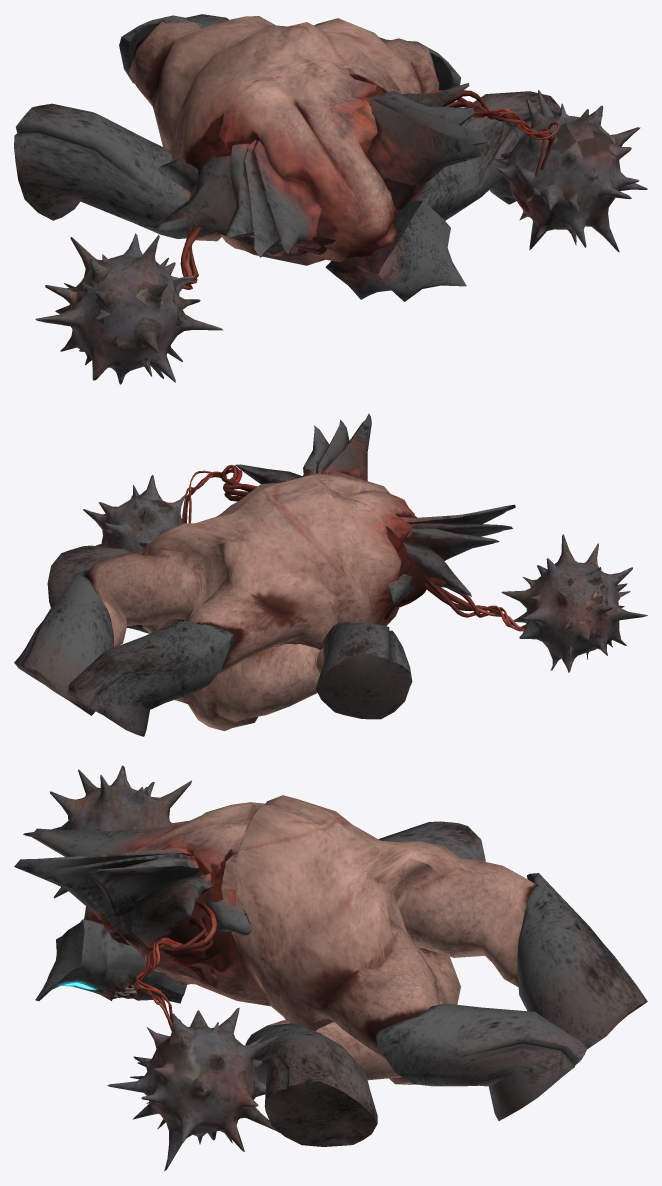
Rendered from FatGuyDead2_LOD1.fbx.
3 views of the same model, one above another, from view 1: azimuth 30°, elevation 25°; view 2: azimuth 150°, elevation 25°; view 3: azimuth 270°, elevation 25° (orthographic). The views are drawn at different scales.
Parts seen in each view (by area): view 1: FatGuyDead2_LOD1; view 2: FatGuyDead2_LOD1; view 3: FatGuyDead2_LOD1.
Boxes of the visible parts, left/top/right/bottom form: FatGuyDead2_LOD1: left=14, top=14, right=647, bottom=384; FatGuyDead2_LOD1: left=14, top=413, right=647, bottom=736; FatGuyDead2_LOD1: left=14, top=765, right=647, bottom=1171.
Size of the model in its own units: 5.33 by 2.02 by 4.57.
